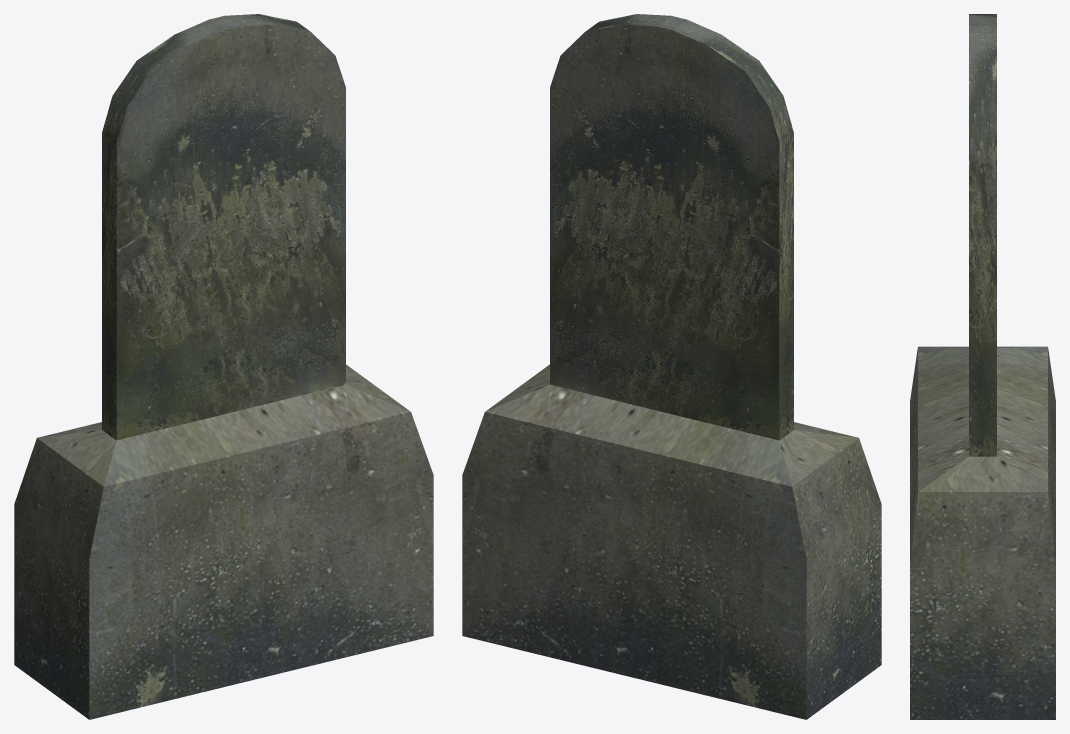
The model's file is Headstone_06.fbx.
3 views of the same model, side by side, from view 1: azimuth 30°, elevation 25°; view 2: azimuth 150°, elevation 25°; view 3: azimuth 270°, elevation 25° (orthographic). The views are drawn at different scales.
Visible parts, largest first — view 1: headstone6; view 2: headstone6; view 3: headstone6.
Part boxes in pixels (x1,y1,x2,y2): headstone6: (14,14,433,719); headstone6: (462,14,881,719); headstone6: (910,14,1055,719).
Bounding box in the file's own units: 1.12 × 1.95 × 0.4219.
